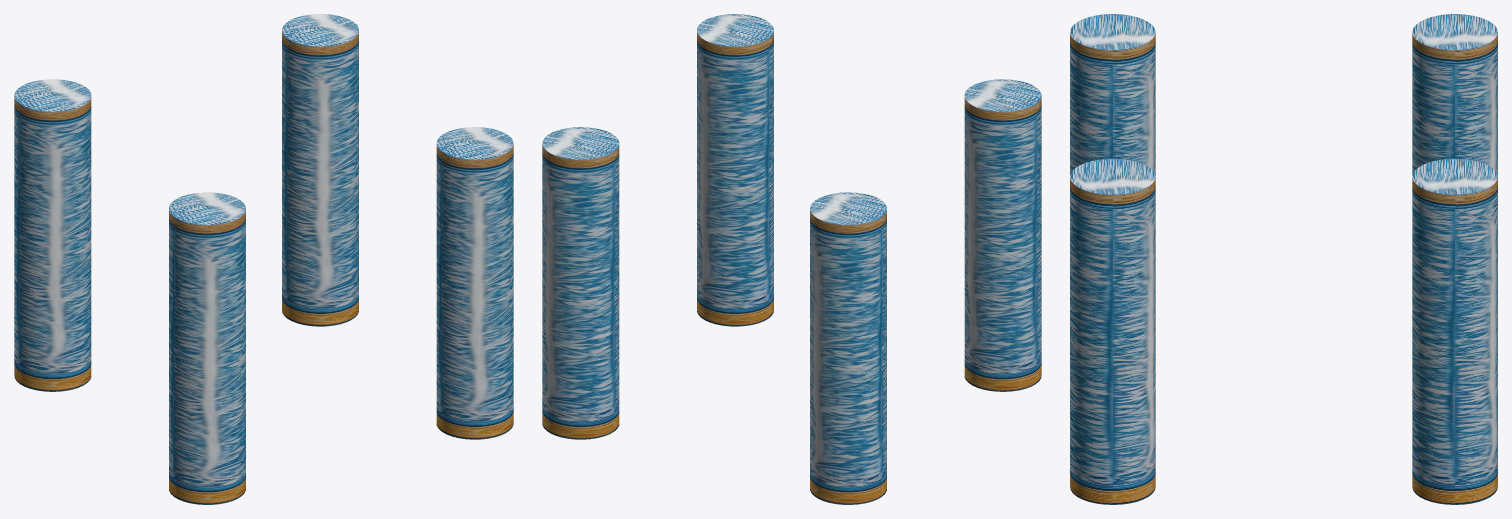
The model's file is blk_pillars_city.glb.
3 renders of one model, left to right at view 1: azimuth 30°, elevation 25°; view 2: azimuth 150°, elevation 25°; view 3: azimuth 270°, elevation 25°, orthographic. The views are drawn at different scales.
Parts seen in each view (by area): view 1: 4 pillars; view 2: 4 pillars; view 3: 4 pillars.
Part boxes in pixels (x1,y1,x2,y2): 4 pillars: (14,14,513,504); 4 pillars: (542,14,1041,504); 4 pillars: (1070,14,1497,504).
Size of the model in its own units: 2.5 by 2 by 2.5.
1 material, 1 textured.
